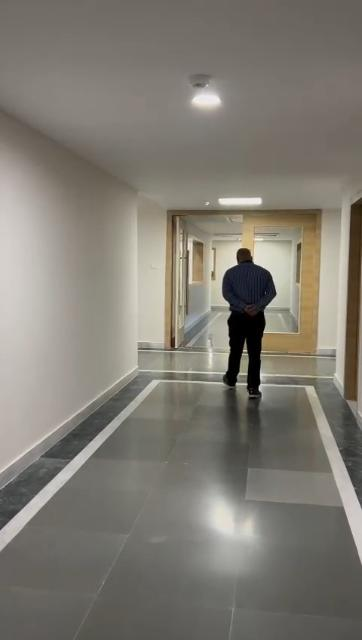floor: (0, 322, 362, 640)
moving-obj: (215, 242, 286, 398)
wall: (0, 110, 164, 478)
